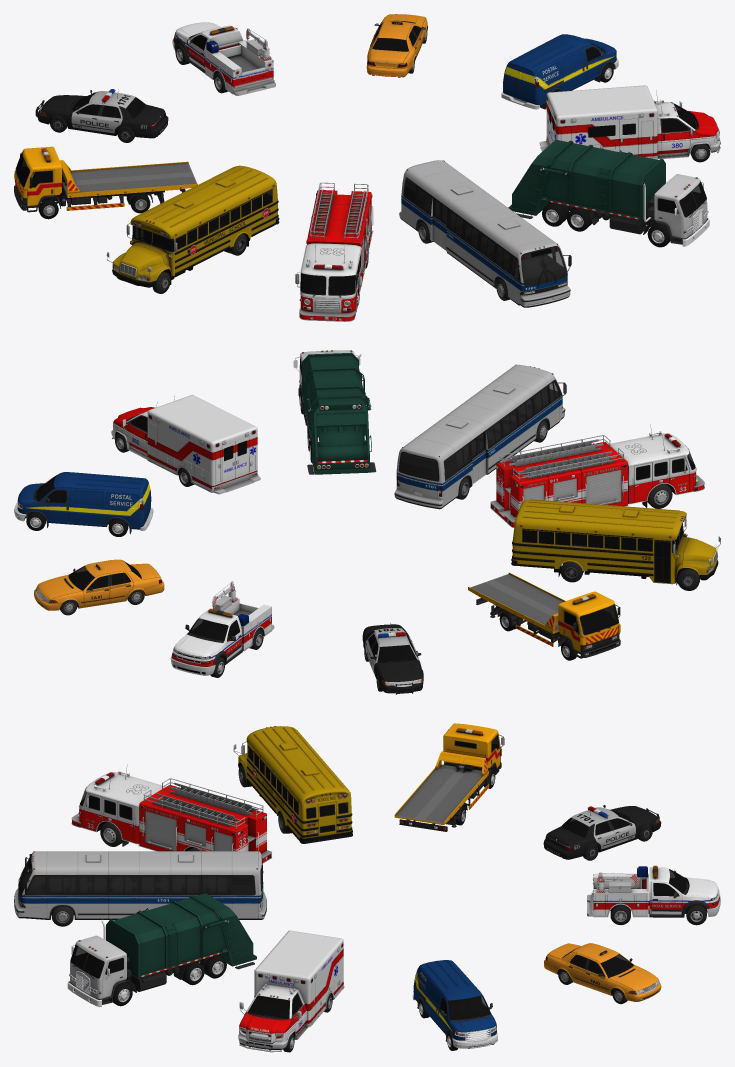
File: generic_civil_service_vehicles_pack.glb
3 views of the same model, one above another, from view 1: azimuth 30°, elevation 25°; view 2: azimuth 150°, elevation 25°; view 3: azimuth 270°, elevation 25° (orthographic).
Parts seen in each view (by area): view 1: garbage_truck, citybus, school_bus_schoolbus_tex_0, ambulance_ambulance_0, fire_truck, towtruck, postvan, rdservtruck, police_sedan, taxi, school_bus_schoolbus_glass_0, ambulance_glass_tex_0; view 2: citybus, fire_truck, school_bus_schoolbus_tex_0, ambulance_ambulance_0, garbage_truck, towtruck, postvan, rdservtruck, taxi, police_sedan, school_bus_schoolbus_glass_0; view 3: citybus, garbage_truck, fire_truck, ambulance_ambulance_0, school_bus_schoolbus_tex_0, towtruck, rdservtruck, postvan, taxi, police_sedan, school_bus_schoolbus_glass_0, ambulance_glass_tex_0.
Boxes of the visible parts, x1,y1,x2,y2 form: garbage_truck: [508, 139, 709, 247]; citybus: [399, 160, 571, 307]; school_bus_schoolbus_tex_0: [106, 165, 279, 293]; ambulance_ambulance_0: [539, 85, 720, 162]; fire_truck: [295, 182, 373, 321]; towtruck: [14, 146, 197, 219]; postvan: [501, 34, 618, 109]; rdservtruck: [172, 22, 275, 95]; police_sedan: [35, 89, 168, 142]; taxi: [366, 14, 427, 77]; school_bus_schoolbus_glass_0: [132, 190, 272, 251]; ambulance_glass_tex_0: [549, 103, 696, 137]; citybus: [394, 364, 566, 509]; fire_truck: [490, 424, 704, 527]; school_bus_schoolbus_tex_0: [511, 499, 720, 590]; ambulance_ambulance_0: [111, 394, 260, 494]; garbage_truck: [293, 350, 376, 474]; towtruck: [468, 572, 620, 660]; postvan: [14, 472, 153, 536]; rdservtruck: [170, 581, 274, 677]; taxi: [34, 559, 164, 615]; police_sedan: [362, 623, 423, 694]; school_bus_schoolbus_glass_0: [522, 523, 683, 579]; citybus: [14, 850, 266, 926]; garbage_truck: [67, 893, 256, 1007]; fire_truck: [71, 765, 271, 863]; ambulance_ambulance_0: [238, 930, 344, 1052]; school_bus_schoolbus_tex_0: [233, 726, 352, 843]; towtruck: [394, 723, 504, 831]; rdservtruck: [587, 865, 720, 925]; postvan: [412, 960, 497, 1050]; taxi: [544, 943, 661, 1004]; police_sedan: [543, 805, 661, 860]; school_bus_schoolbus_glass_0: [248, 747, 347, 818]; ambulance_glass_tex_0: [247, 994, 301, 1018].
Size of the model in its own units: 26.92 by 2.94 by 27.8.
Materials: 43 (42 with a texture image).
